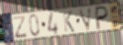0: (29, 14, 41, 38)
4: (47, 11, 61, 36)
K: (61, 10, 75, 33)
P: (95, 5, 110, 32)
V: (78, 6, 94, 32)
Z: (13, 15, 29, 40)
